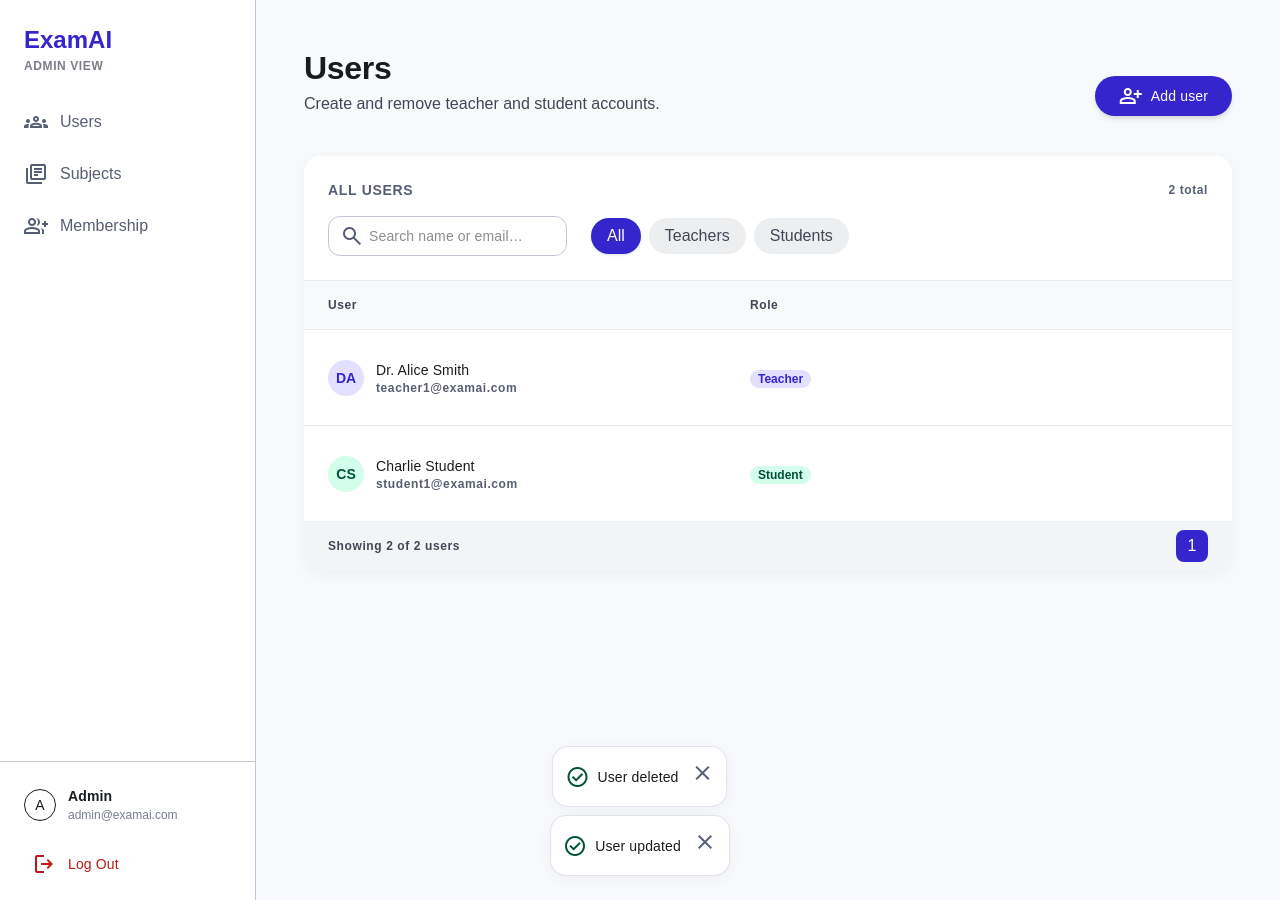
Test: AdminUsers › creates a user through the dialog and closes it on success
Expected: the text "Dr. Alice Smith" is shown, [376,362,469,378]
Note: The header button's accessible name includes its icon ligature.
Click the button "Add user": (1163, 96) [1095,76,1232,116]
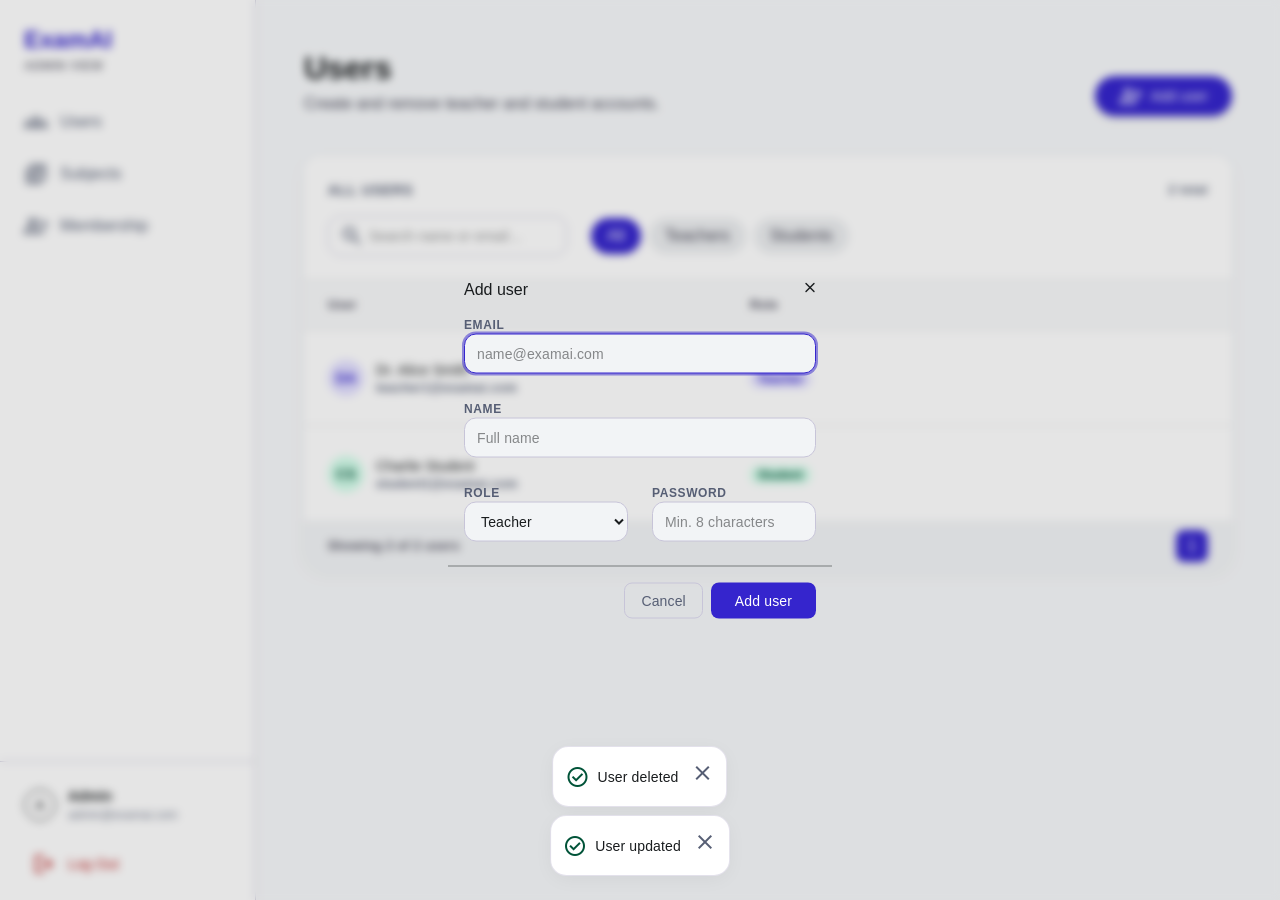
In the field labelled "Email": (640, 354) [464,334,816,374], type "newt@examai.com"
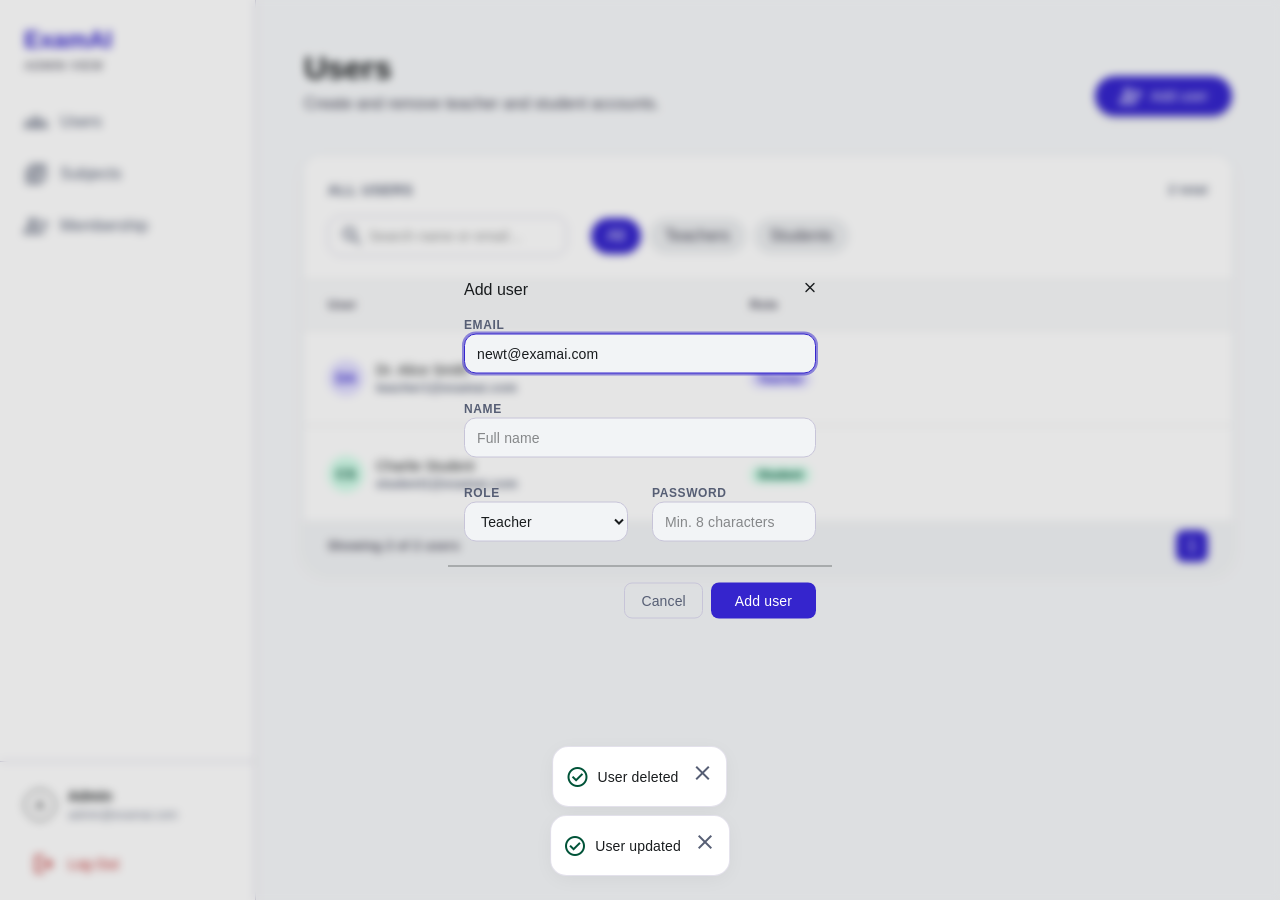
In the field labelled "Name": (640, 438) [464,418,816,458], type "New Teacher"
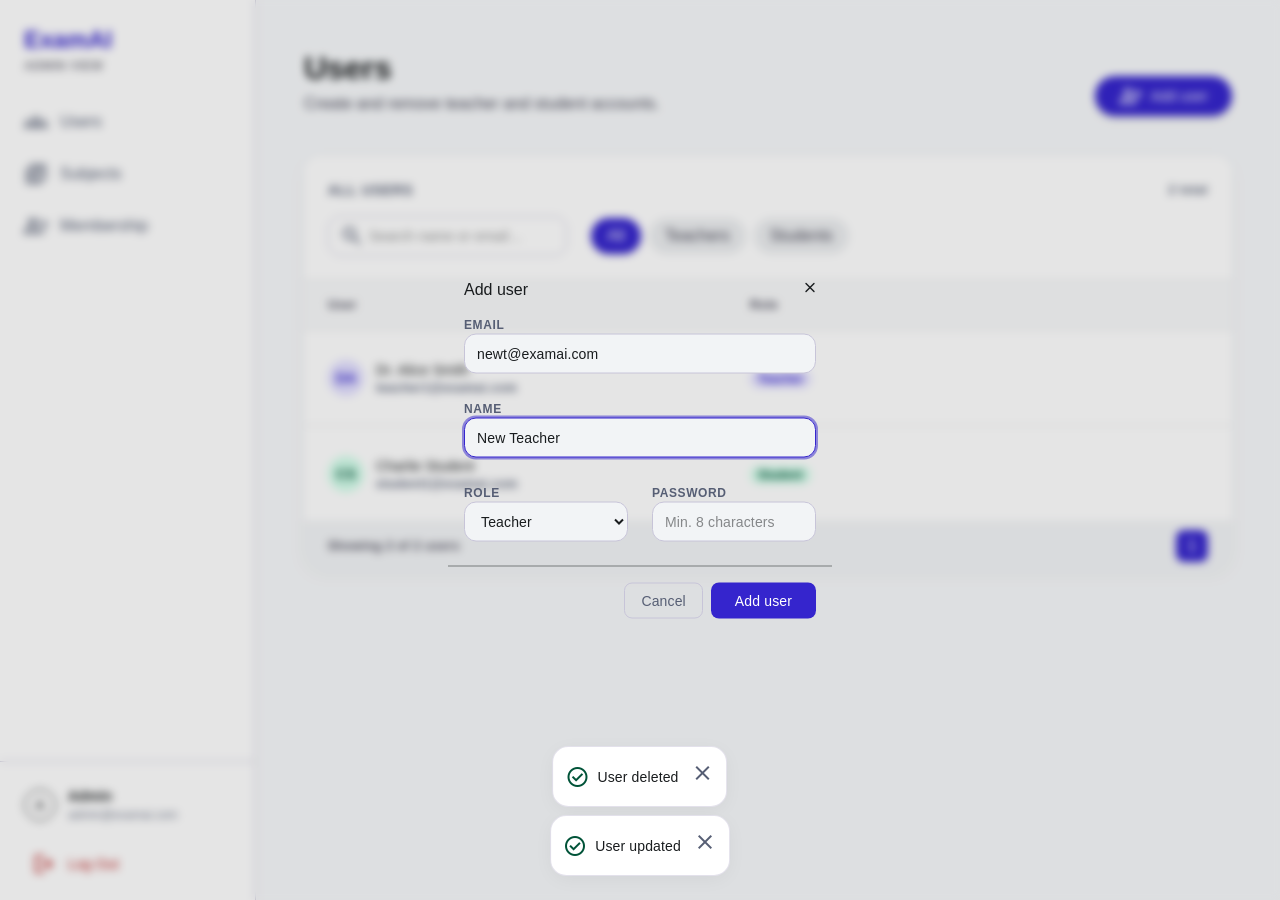
In the password field labelled "Password": (734, 522) [652,502,816,542], type "Password123!"
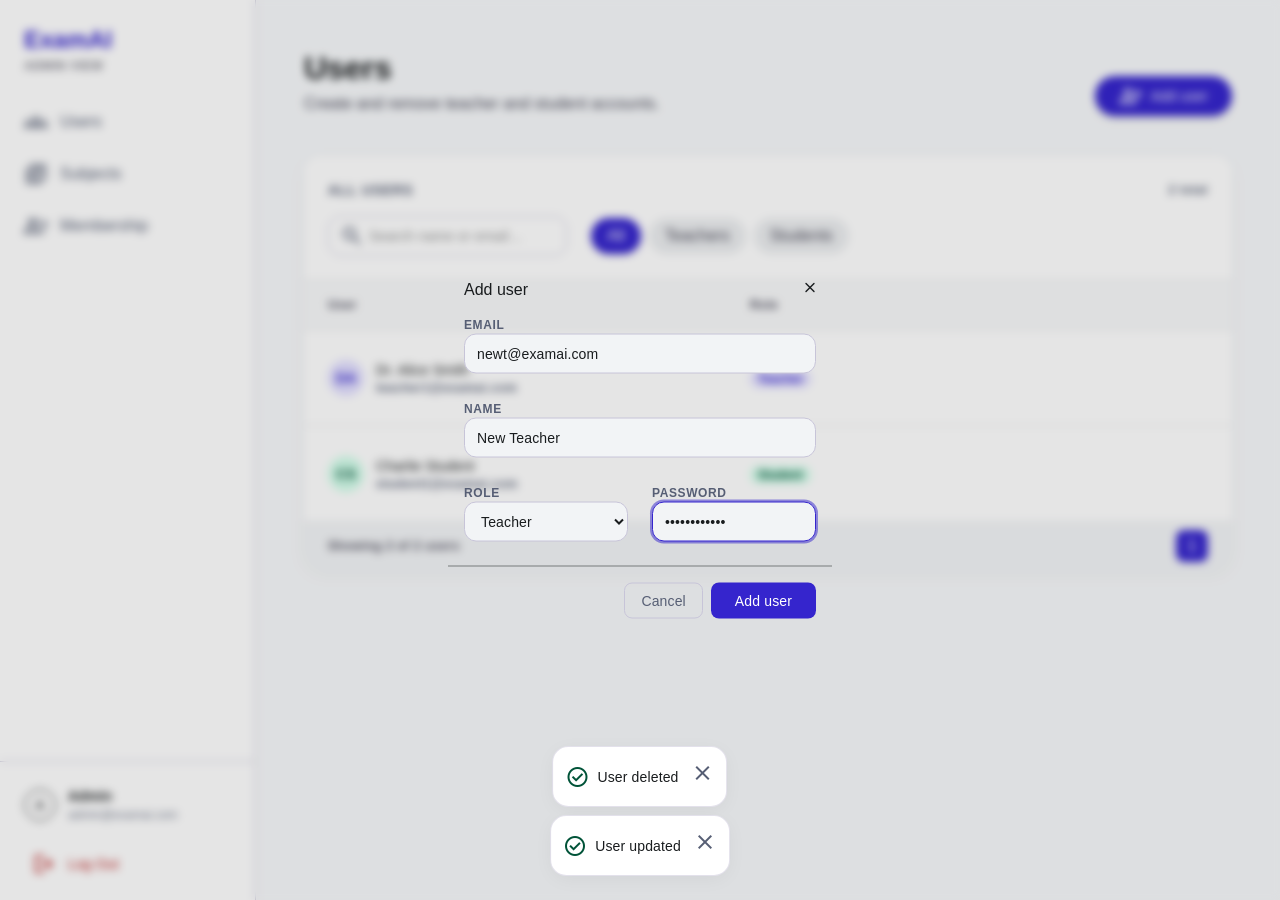
Click the button "Add user": (763, 600) [711,582,816,618]
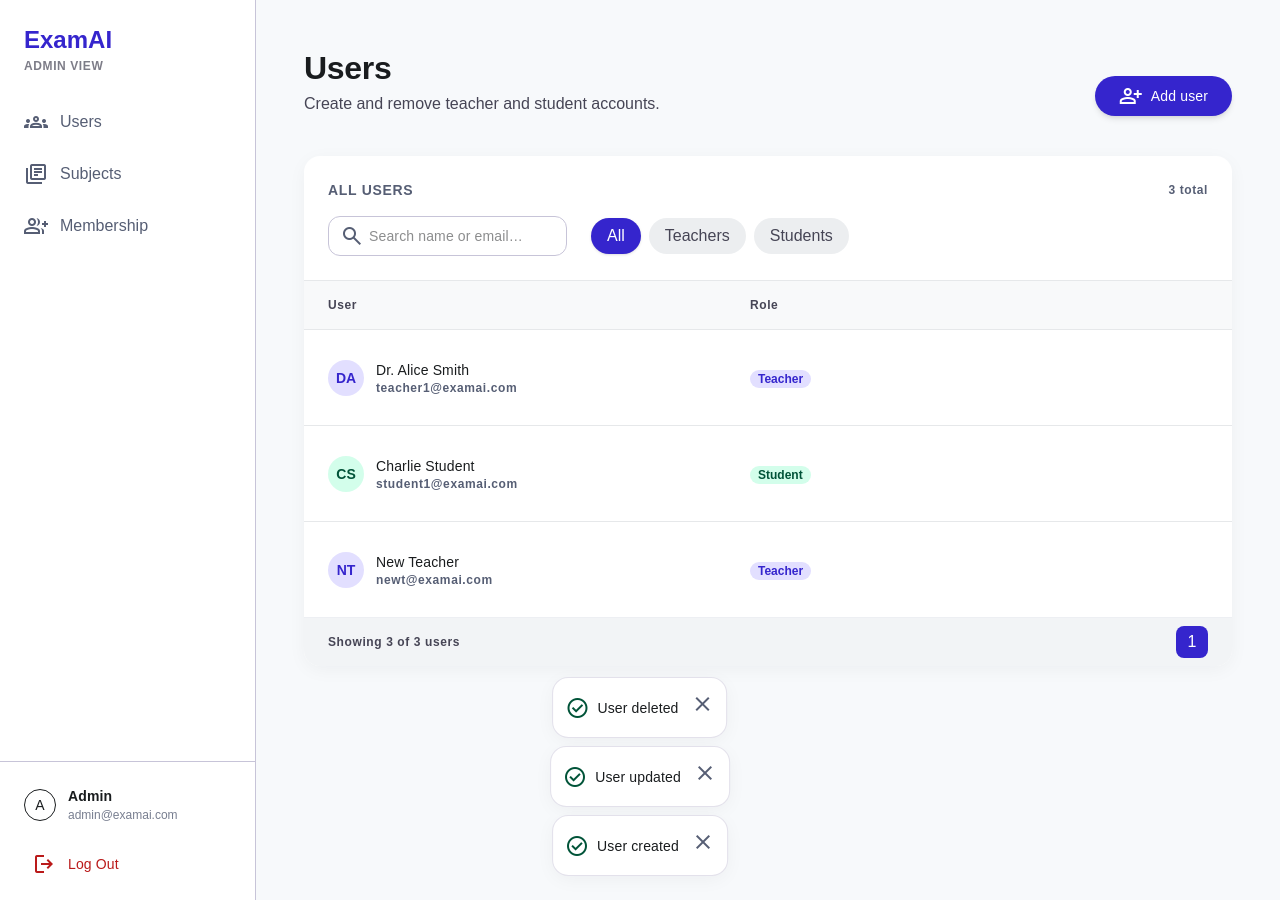
Expected: the text "New Teacher" is shown, [376,554,459,570]
